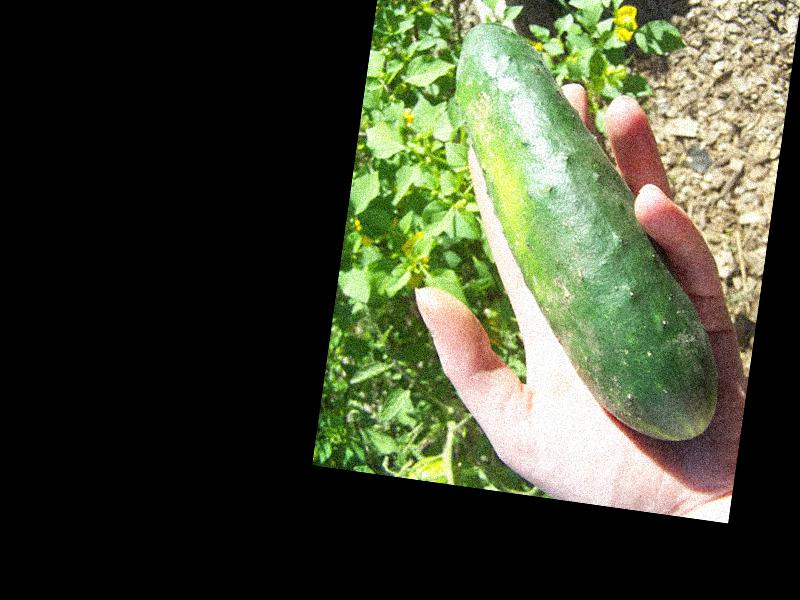Cucumber: (411, 18, 762, 444)
